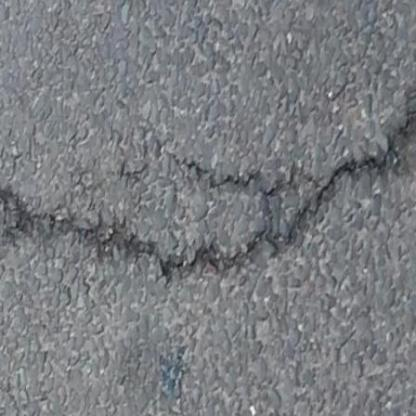Cracks: (0, 180, 287, 305), (89, 128, 339, 249), (300, 84, 416, 315)
